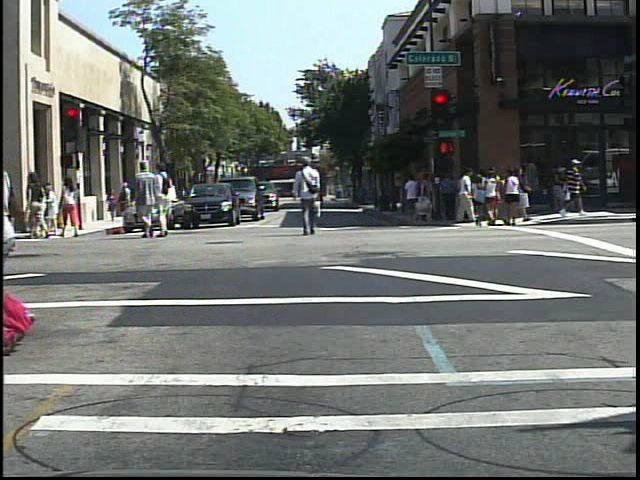person: (2, 130, 42, 352), (294, 153, 328, 241), (131, 157, 164, 242), (557, 154, 591, 218), (26, 167, 55, 241), (59, 171, 83, 240), (158, 161, 178, 239), (469, 172, 487, 231)
